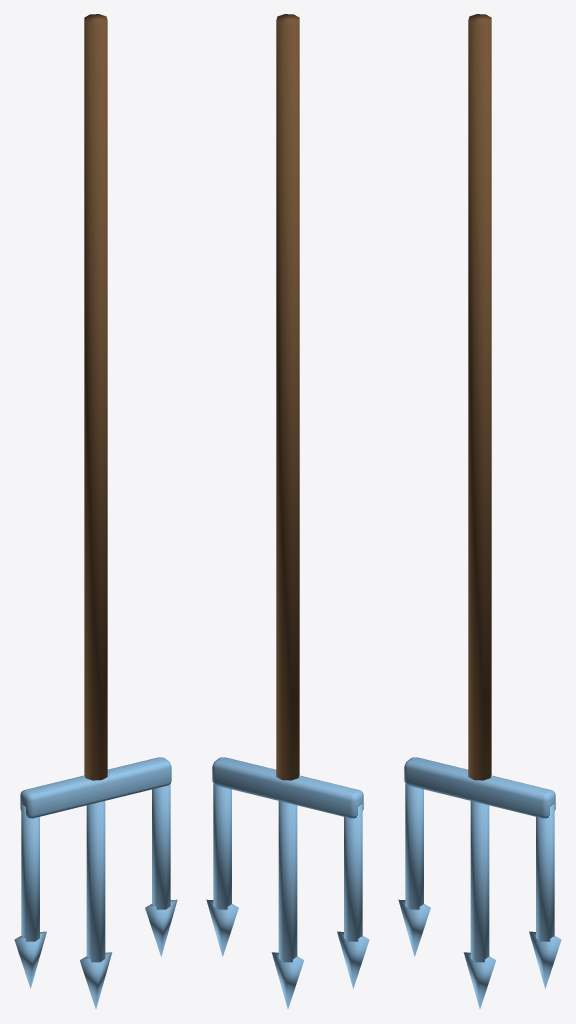
Rendered from weapon_nautico_rara.glb.
3 renders of one model, left to right at view 1: azimuth 30°, elevation 25°; view 2: azimuth 150°, elevation 25°; view 3: azimuth 330°, elevation 25°, orthographic.
Parts seen in each view (by area): view 1: weapon_nautico_rara; view 2: weapon_nautico_rara; view 3: weapon_nautico_rara.
Boxes of the visible parts, bbox=[...] form: weapon_nautico_rara: bbox=[14, 14, 177, 1008]; weapon_nautico_rara: bbox=[206, 14, 369, 1008]; weapon_nautico_rara: bbox=[398, 14, 561, 1008].
Bounding box in the file's own units: 0.7 × 4.06 × 0.09.
